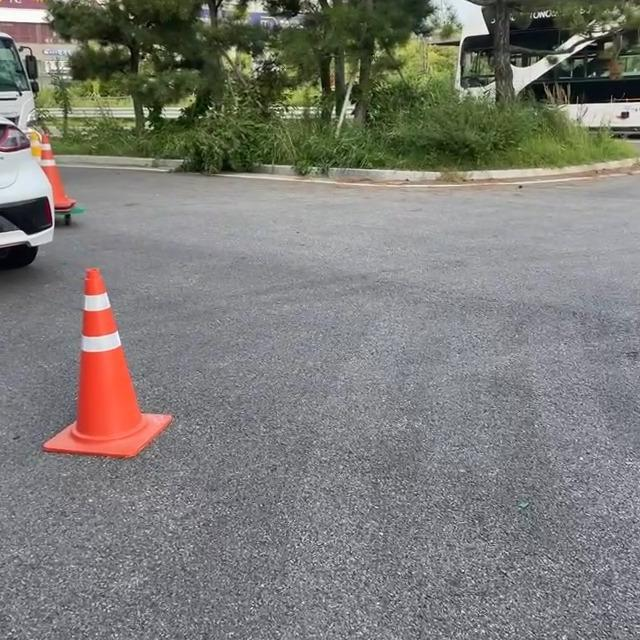fallen_object: (28, 263, 230, 506), (0, 90, 131, 239)
